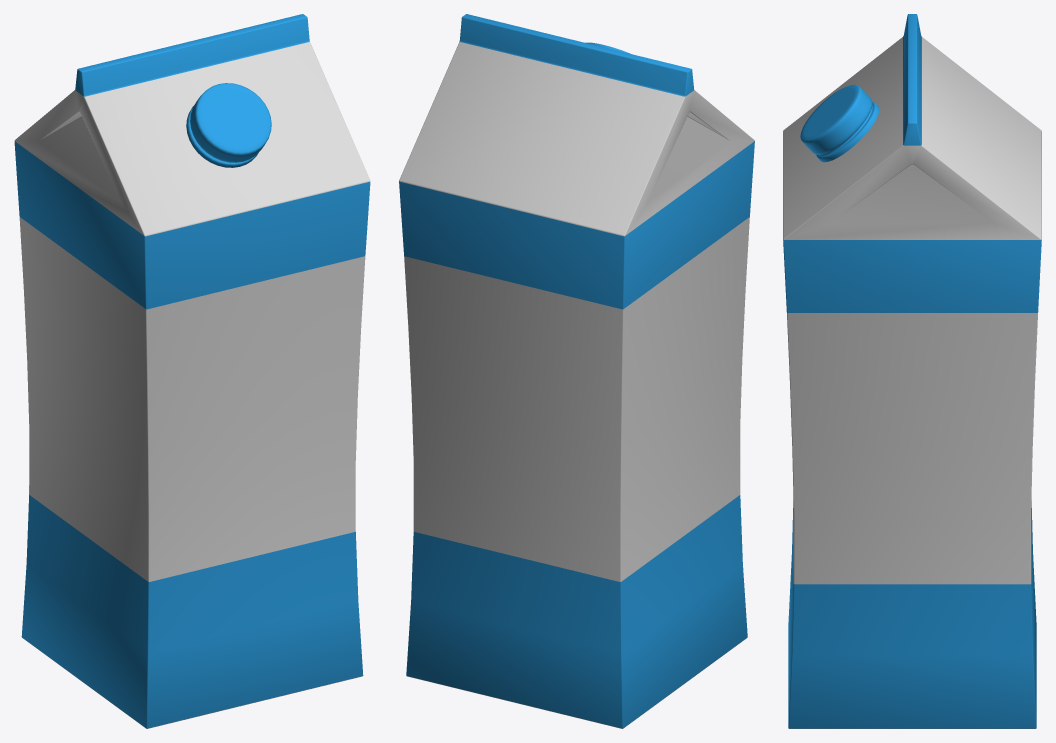
The model's file is BrickLeche.fbx.
3 renders of one model, left to right at view 1: azimuth 30°, elevation 25°; view 2: azimuth 150°, elevation 25°; view 3: azimuth 270°, elevation 25°, orthographic.
Visible parts, largest first — view 1: BrickLeche; view 2: BrickLeche; view 3: BrickLeche.
Boxes of the visible parts, box(x1,y1,x2,y2) form: BrickLeche: box(14, 14, 370, 728); BrickLeche: box(399, 14, 754, 728); BrickLeche: box(783, 14, 1041, 728).
Bounding box in the file's own units: 221 × 575 × 221.
